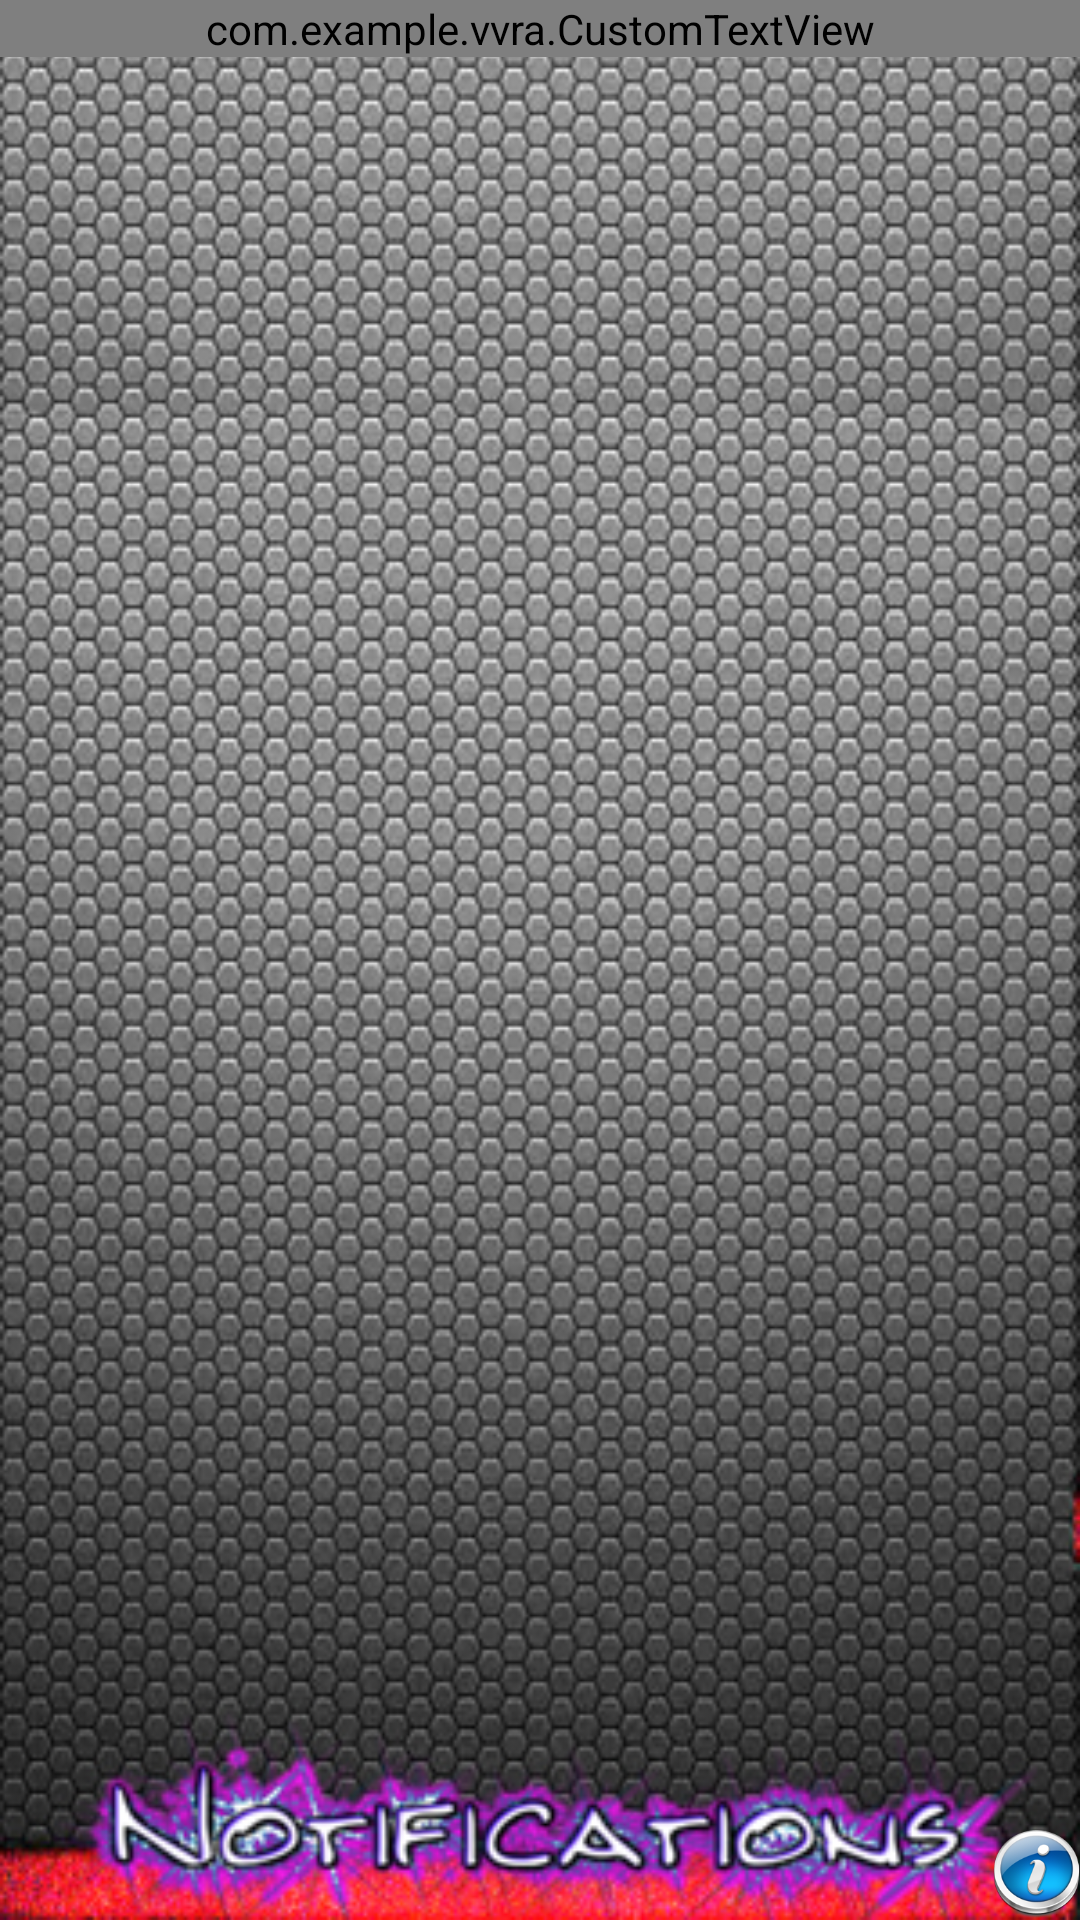

Named icons in this screenshot (1080×1920) and their centers, (x=x, y=y):
info: (x=1035, y=1875)
